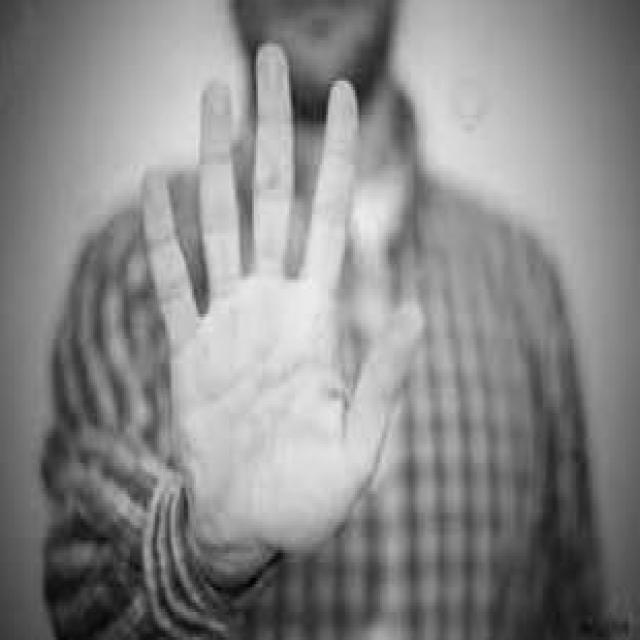stop: (137, 34, 428, 565)
